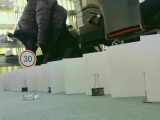speed_30: (18, 50, 37, 68)
